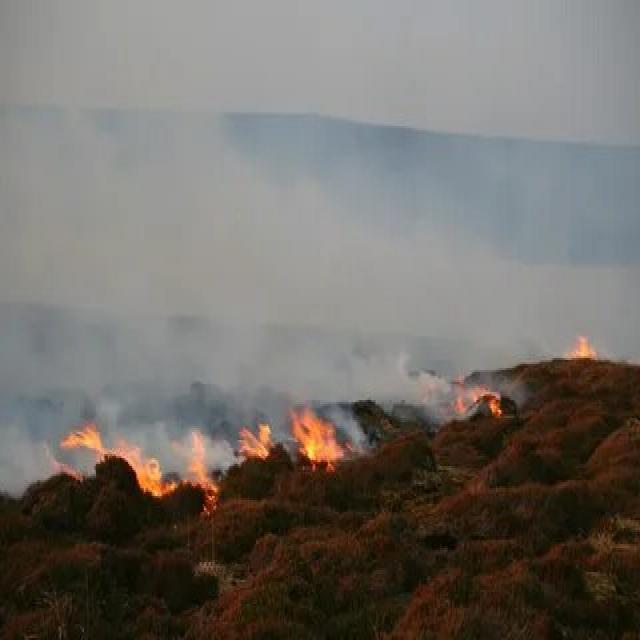Fire: (39, 390, 349, 528)
Smoke: (0, 0, 640, 389)
